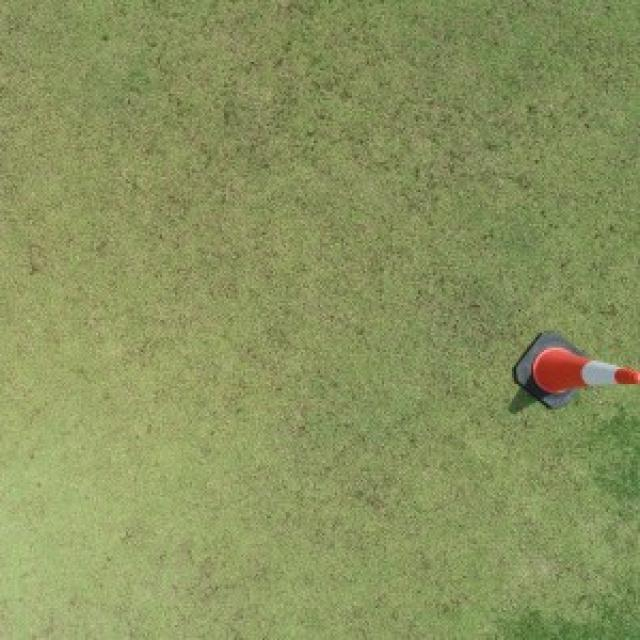Traffic Cone: (510, 328, 638, 414)
